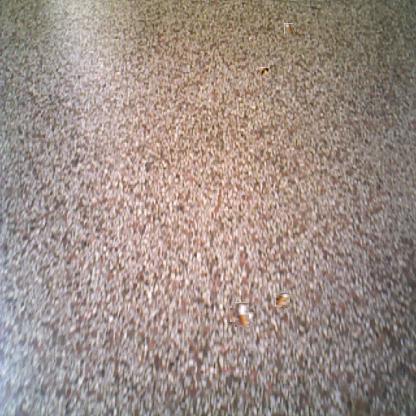dirty: (233, 305, 252, 325), (276, 293, 290, 308), (259, 67, 269, 78), (283, 24, 294, 33)
